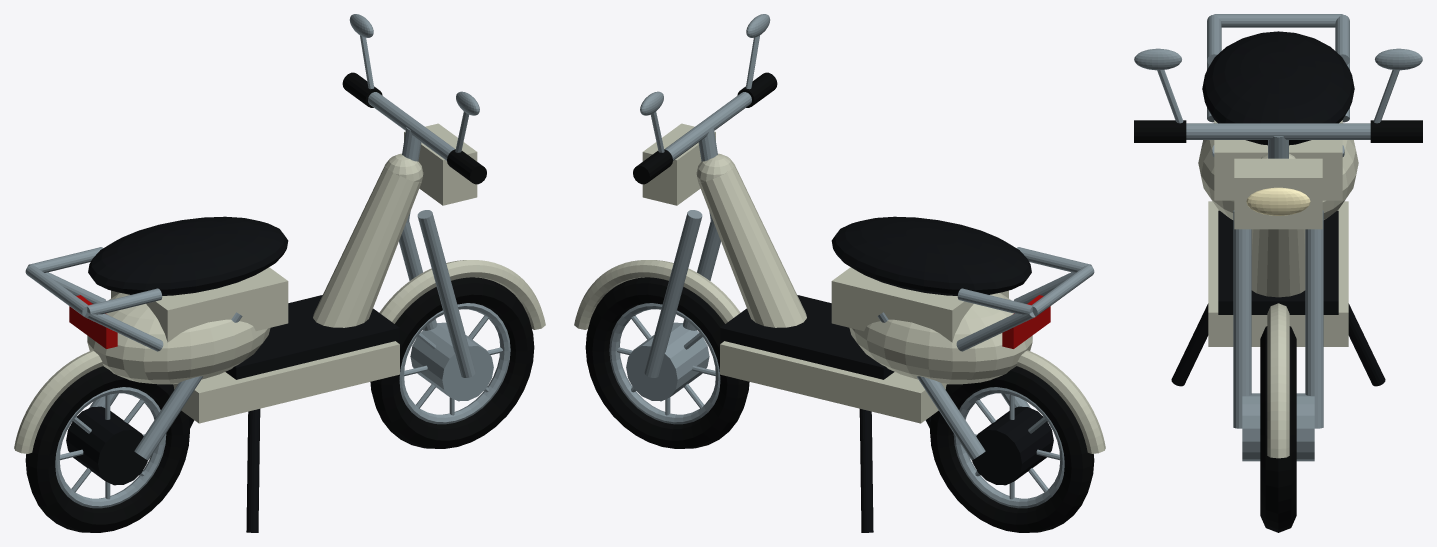
The model's file is ebike_2.dae.
3 views of the same model, side by side, from view 1: azimuth 30°, elevation 25°; view 2: azimuth 150°, elevation 25°; view 3: azimuth 270°, elevation 25° (orthographic). The views are drawn at different scales.
Parts seen in each view (by area): view 1: part3node, part2node, part1node, part0node, part5node; view 2: part3node, part2node, part1node, part0node, part5node; view 3: part3node, part1node, part2node, part0node, part4node.
Part boxes in pixels (bbox=[...]): part3node: bbox=[14, 123, 545, 453]; part2node: bbox=[66, 216, 399, 532]; part1node: bbox=[25, 14, 510, 508]; part0node: bbox=[25, 72, 534, 532]; part5node: bbox=[69, 295, 117, 348]; part3node: bbox=[574, 123, 1105, 453]; part2node: bbox=[720, 216, 1053, 532]; part1node: bbox=[609, 14, 1094, 508]; part0node: bbox=[585, 72, 1094, 532]; part5node: bbox=[1002, 295, 1050, 348]; part3node: bbox=[1198, 120, 1358, 458]; part1node: bbox=[1134, 14, 1422, 461]; part2node: bbox=[1171, 31, 1385, 386]; part0node: bbox=[1134, 120, 1422, 532]; part4node: bbox=[1246, 187, 1310, 215].
Size of the model in its own units: 0.18 by 0.075 by 0.13.
